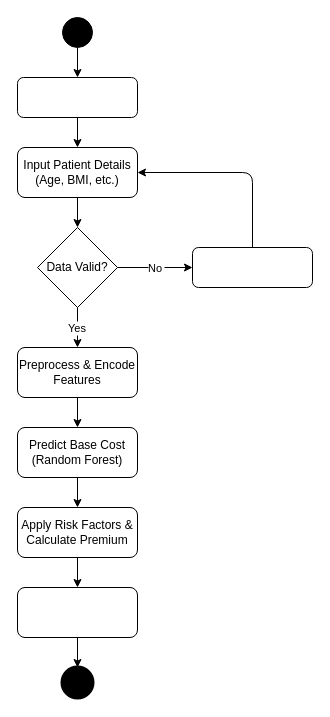
This 330x717 diagram has some shape labels left out. Here are the shapes that lost their labels. From the top down, the centre of each, then its label:
At pixel 77 97: "Open Web Application".
At pixel 252 267: "Show Error Message".
At pixel 77 612: "Display Predicted Cost & Plans".
